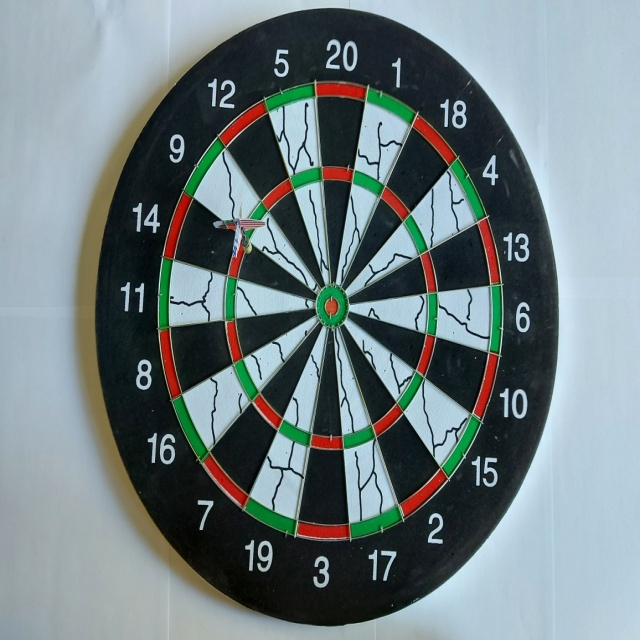Dart: (208, 183, 268, 265)
